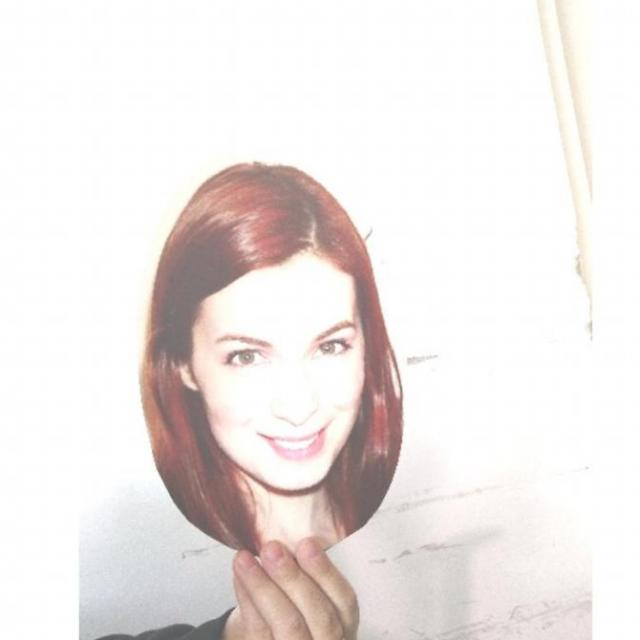photo: (132, 139, 412, 566)
